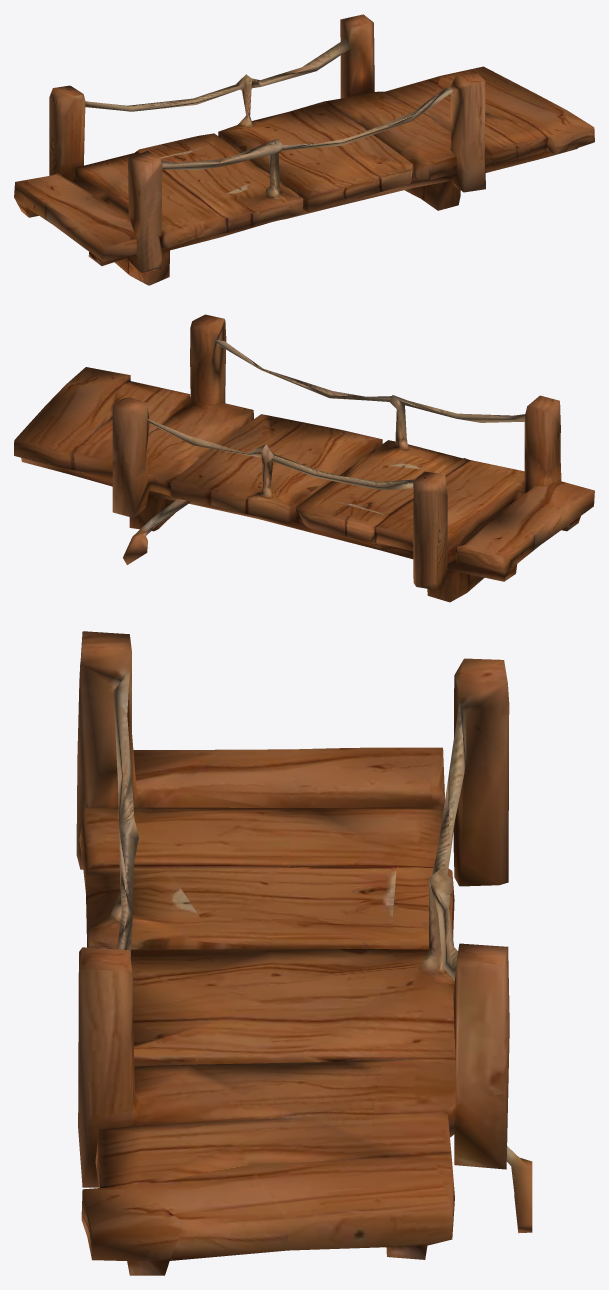
Rendered from bridge.glb.
3 views of the same model, one above another, from view 1: azimuth 30°, elevation 25°; view 2: azimuth 150°, elevation 25°; view 3: azimuth 270°, elevation 25° (orthographic). The views are drawn at different scales.
Parts seen in each view (by area): view 1: tripo_node_feff02a2-1c9a-4d93-a7b6-ca29cff0290e; view 2: tripo_node_feff02a2-1c9a-4d93-a7b6-ca29cff0290e; view 3: tripo_node_feff02a2-1c9a-4d93-a7b6-ca29cff0290e.
Part boxes in pixels (bbox=[...]): tripo_node_feff02a2-1c9a-4d93-a7b6-ca29cff0290e: bbox=[14, 14, 594, 285]; tripo_node_feff02a2-1c9a-4d93-a7b6-ca29cff0290e: bbox=[14, 314, 594, 602]; tripo_node_feff02a2-1c9a-4d93-a7b6-ca29cff0290e: bbox=[76, 631, 532, 1275].
Bounding box in the file's own units: 0.9448 × 0.2785 × 0.3781.
Materials: 1 (1 with a texture image).
